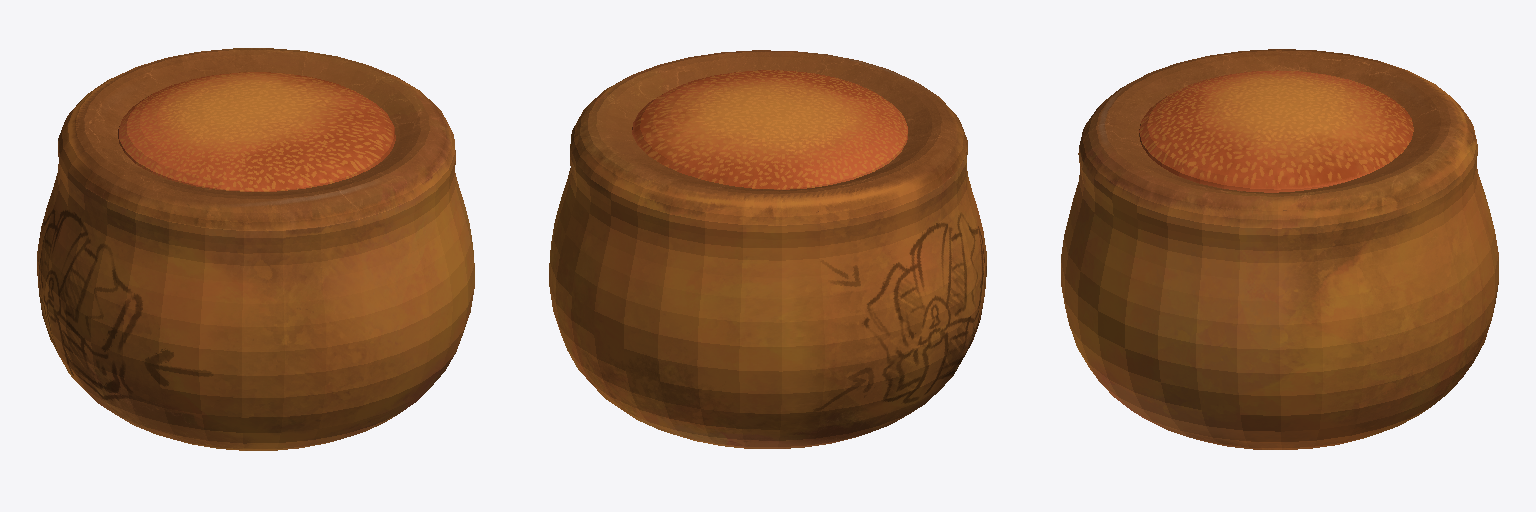
3 renders of one model, left to right at view 1: azimuth 30°, elevation 25°; view 2: azimuth 150°, elevation 25°; view 3: azimuth 270°, elevation 25°, orthographic.
Visible parts, largest first — view 1: Jar_1b_12.001_Market_3.001, Sphere; view 2: Jar_1b_12.001_Market_3.001, Sphere; view 3: Jar_1b_12.001_Market_3.001, Sphere.
Part boxes in pixels (x1,y1,x2,y2): Jar_1b_12.001_Market_3.001: (37, 48, 474, 450); Sphere: (118, 72, 395, 191); Jar_1b_12.001_Market_3.001: (549, 50, 986, 448); Sphere: (632, 70, 907, 189); Jar_1b_12.001_Market_3.001: (1061, 49, 1498, 449); Sphere: (1139, 70, 1413, 192).
Size of the model in its own units: 19.08 by 14.32 by 19.1.
1 materials, 1 textured.